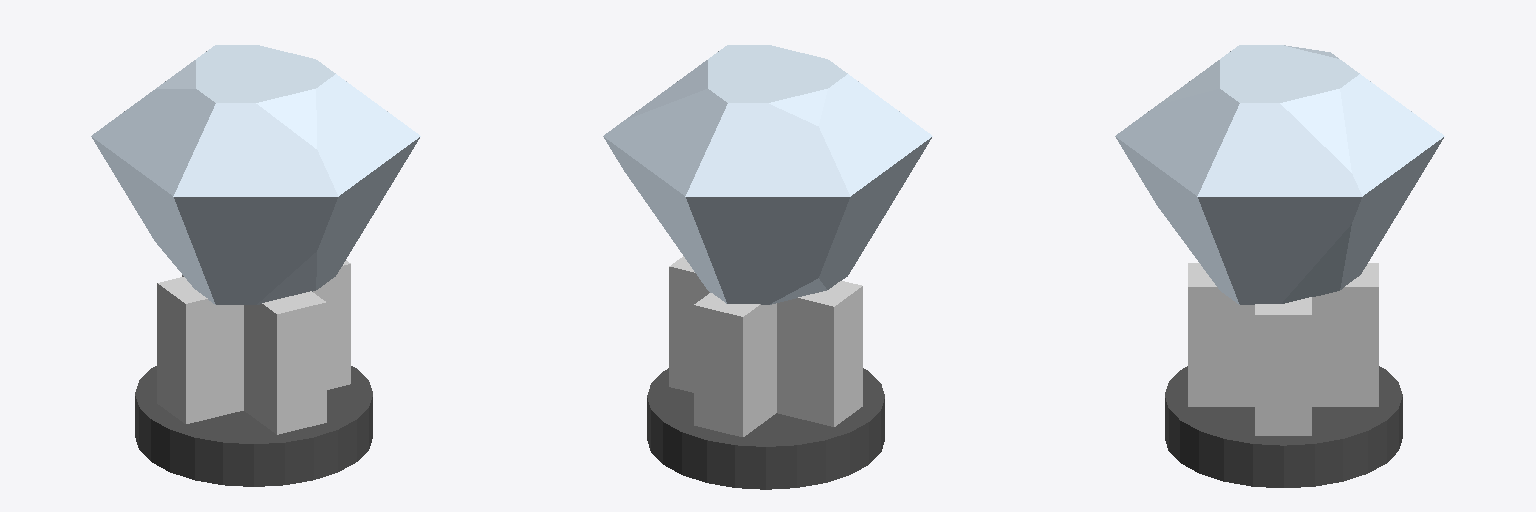
Rendered from gems_diamond_6.obj.
3 renders of one model, left to right at view 1: azimuth 30°, elevation 25°; view 2: azimuth 150°, elevation 25°; view 3: azimuth 270°, elevation 25°, orthographic.
Parts seen in each view (by area): view 1: mergedBlocks; view 2: mergedBlocks; view 3: mergedBlocks.
Part boxes in pixels (left/top/right/bottom): mergedBlocks: left=91, top=45, right=420, bottom=486; mergedBlocks: left=603, top=45, right=932, bottom=489; mergedBlocks: left=1115, top=45, right=1444, bottom=487.
Size of the model in its own units: 1.2 by 1.69 by 1.39.